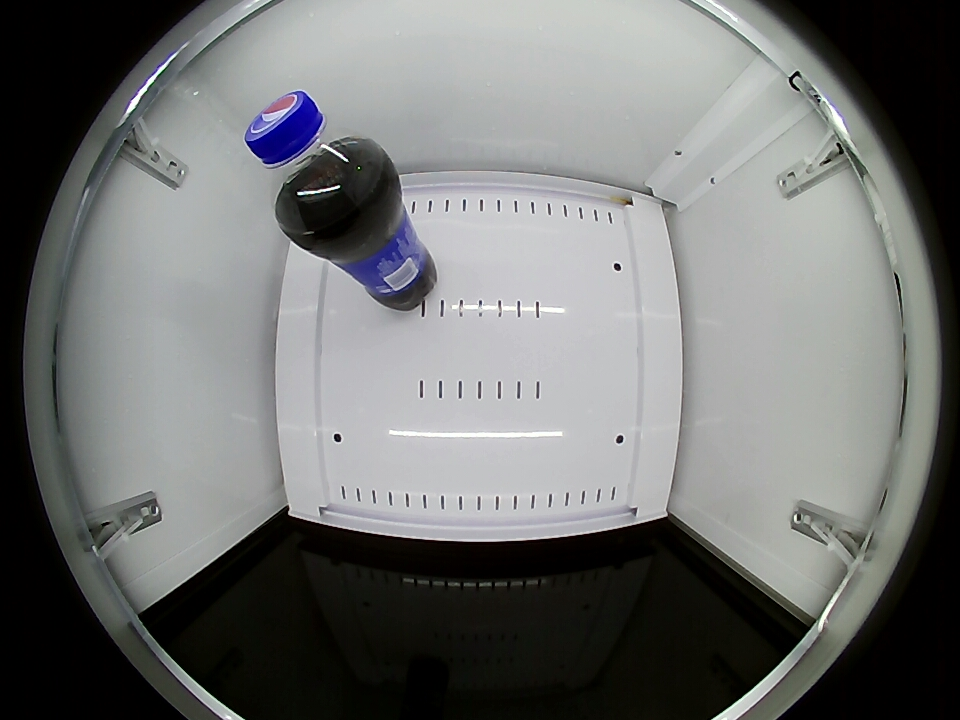baishikele-2: (244, 91, 380, 228)
